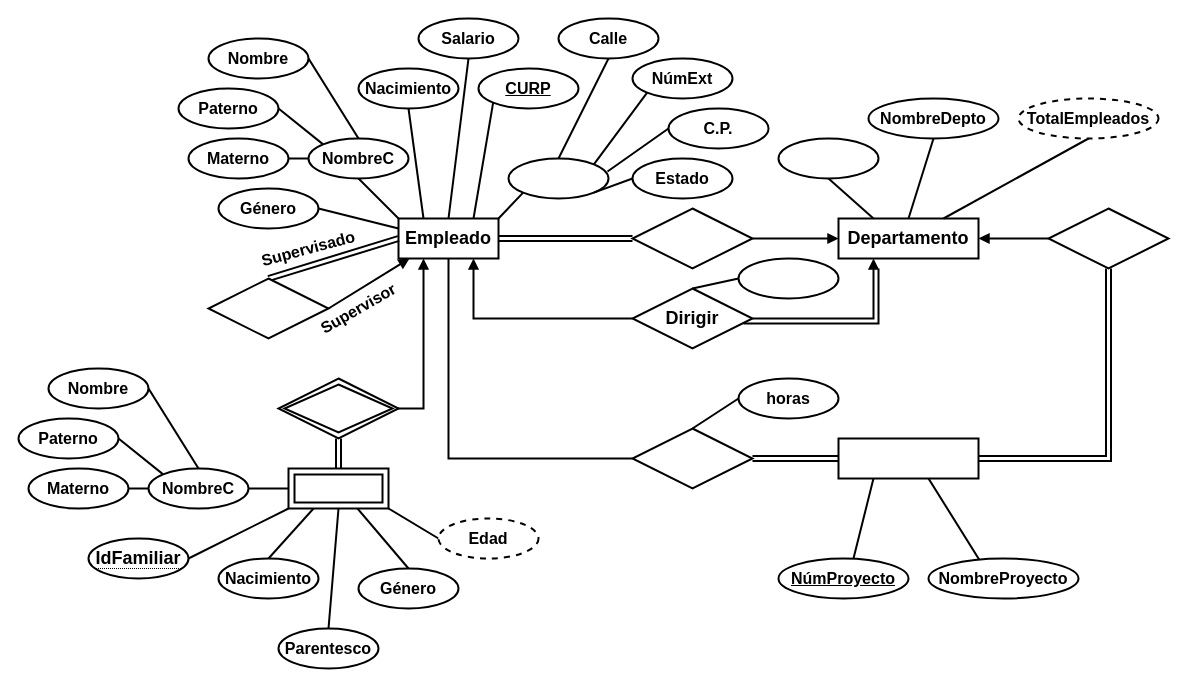
This 1186x686 diagram has some shape labels left out. Each missing label, with the box of its shape:
Asignar: (631, 207, 753, 269)
Controlar: (1047, 207, 1169, 269)
Dirección: (507, 157, 609, 199)
Familiar: (287, 467, 389, 509)
Fecha: (737, 257, 839, 299)
NúmDepto: (777, 137, 879, 179)
Participar: (631, 427, 753, 489)
Proyecto: (837, 437, 979, 479)
Supervisar: (207, 277, 329, 339)
Tener: (277, 377, 399, 439)
